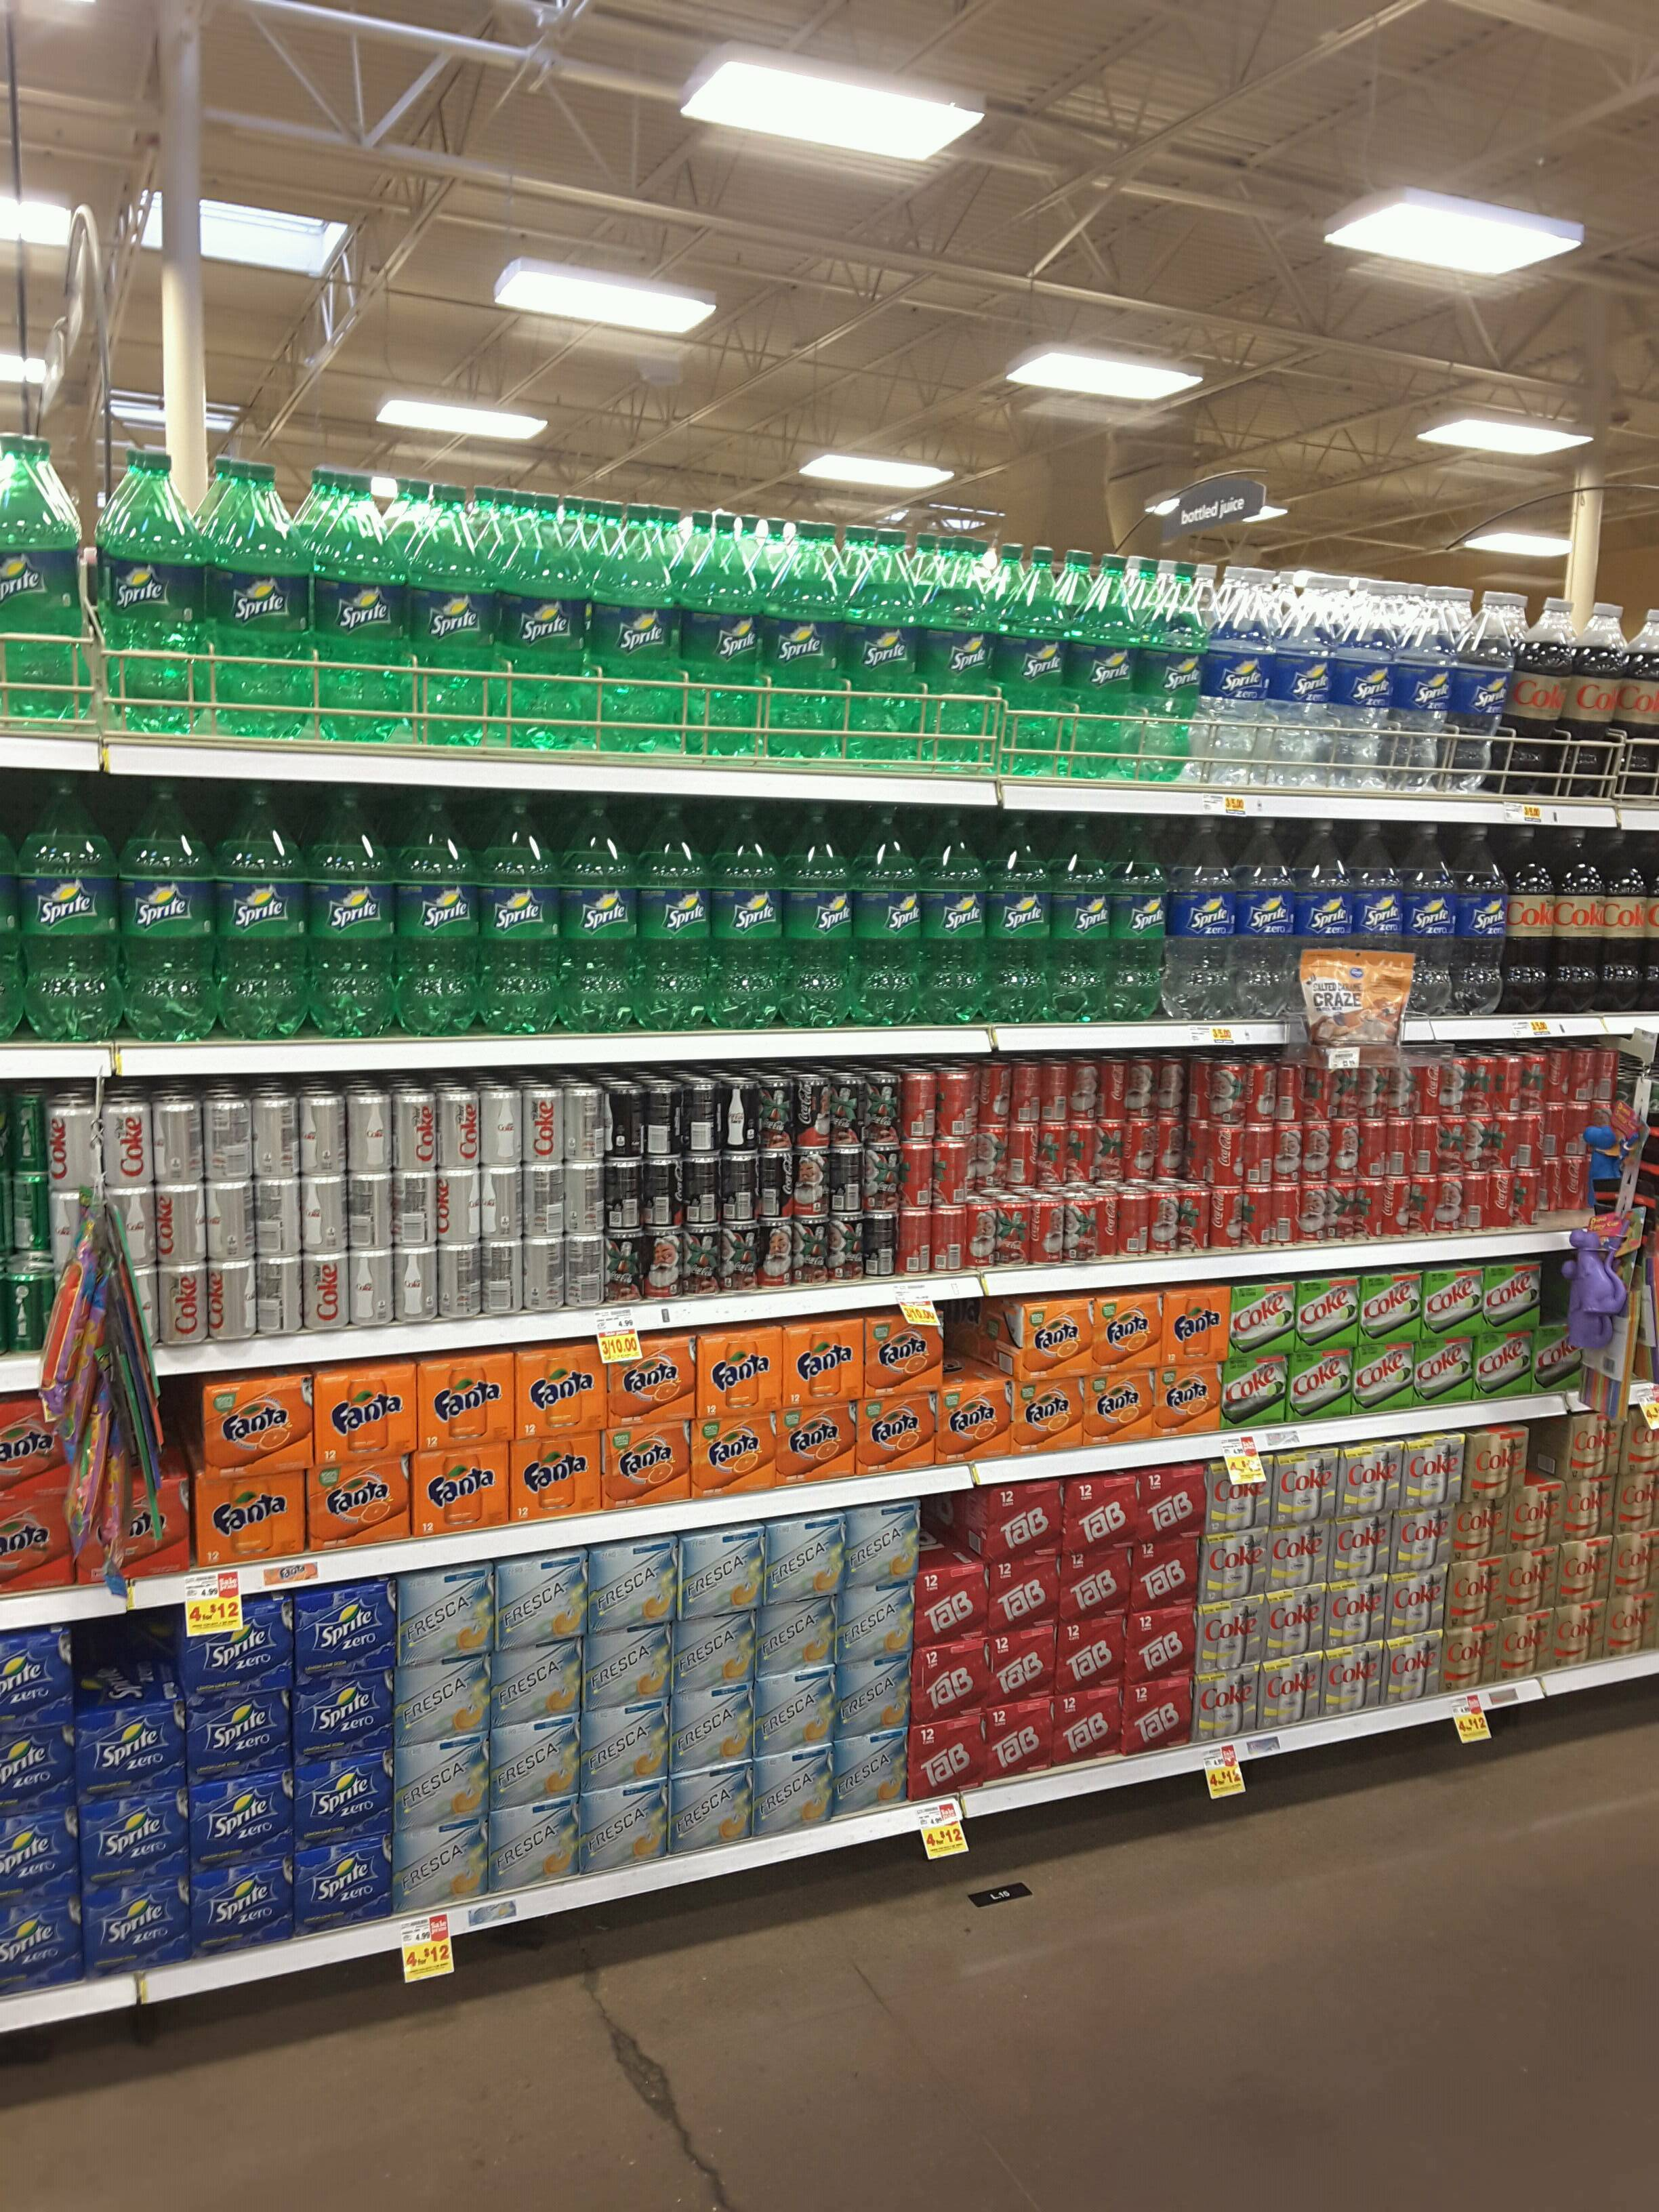Misplacement: (969, 1062, 1213, 1270), (71, 1623, 195, 1984), (910, 1496, 985, 1806), (934, 1303, 1018, 1463)
